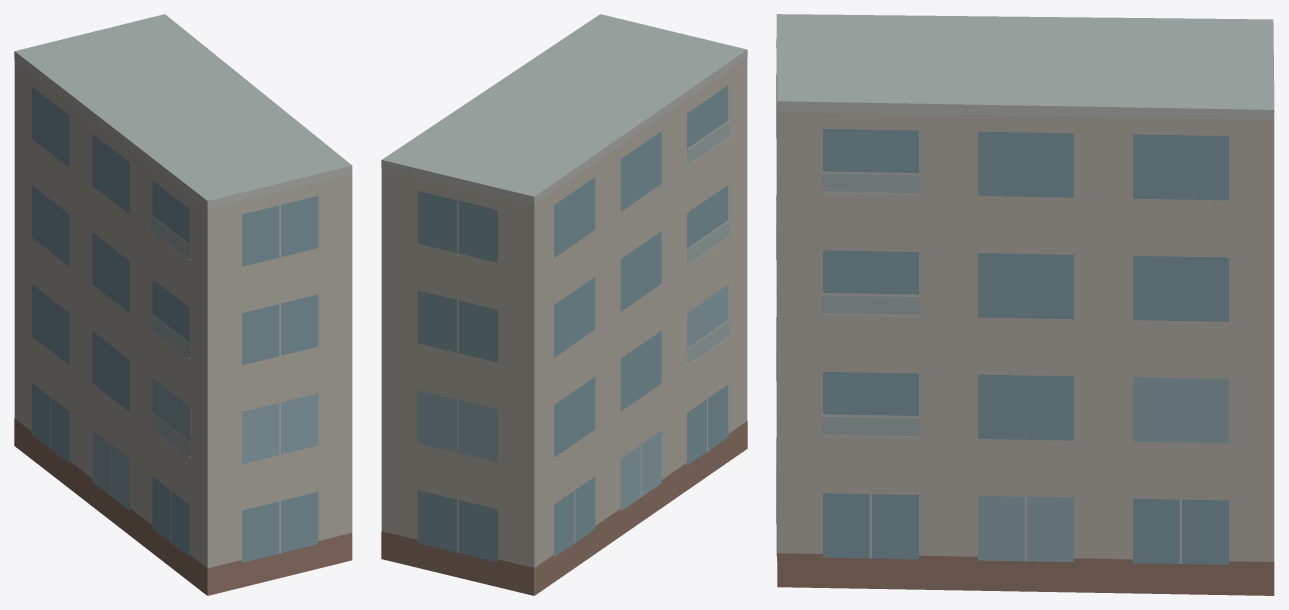
File: survey-upis-32725344.glb
3 renders of one model, left to right at view 1: azimuth 30°, elevation 25°; view 2: azimuth 150°, elevation 25°; view 3: azimuth 270°, elevation 25°, orthographic. The views are drawn at different scales.
Visible parts, largest first — view 1: survey-upis-32725344.tmp; view 2: survey-upis-32725344.tmp; view 3: survey-upis-32725344.tmp.
Part boxes in pixels (left/top/right/bottom): survey-upis-32725344.tmp: left=14, top=14, right=352, bottom=595; survey-upis-32725344.tmp: left=381, top=14, right=747, bottom=595; survey-upis-32725344.tmp: left=776, top=14, right=1274, bottom=595.
Bounding box in the file's own units: 4.95 × 11.65 × 10.83.
